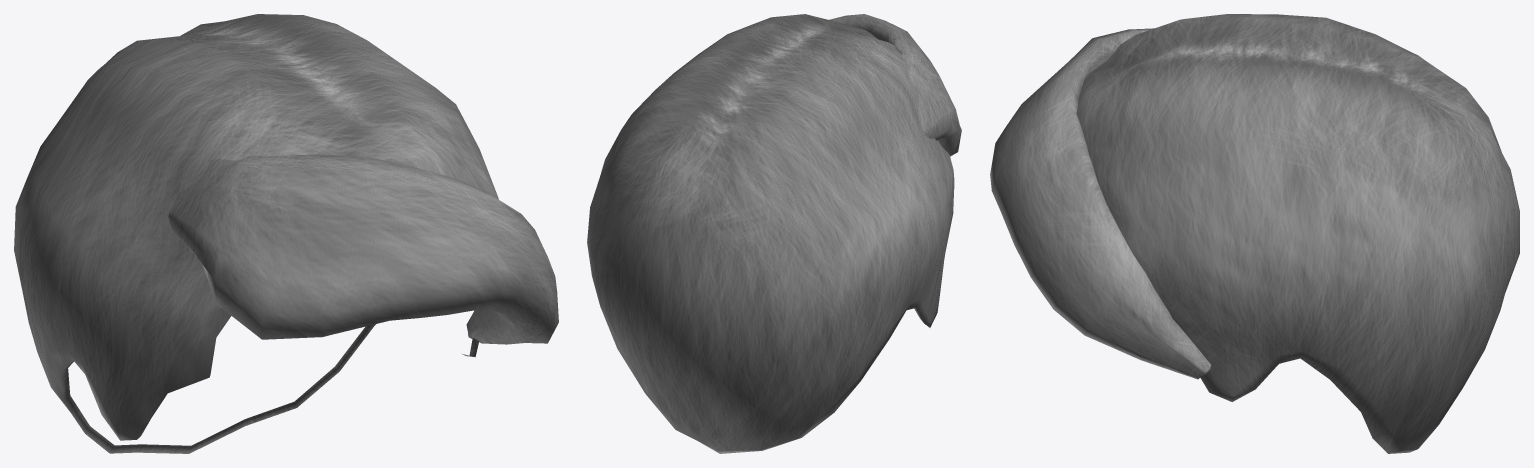
Rendered from Hair01.glb.
3 renders of one model, left to right at view 1: azimuth 30°, elevation 25°; view 2: azimuth 150°, elevation 25°; view 3: azimuth 270°, elevation 25°, orthographic. The views are drawn at different scales.
Parts seen in each view (by area): view 1: Hair01_Geo; view 2: Hair01_Geo; view 3: Hair01_Geo.
Part boxes in pixels (x1,y1,x2,y2): Hair01_Geo: (14,14,558,453); Hair01_Geo: (587,14,961,453); Hair01_Geo: (990,14,1519,453).
Bounding box in the file's own units: 0.1765 × 0.1939 × 0.2284.
1 material, 1 textured.
